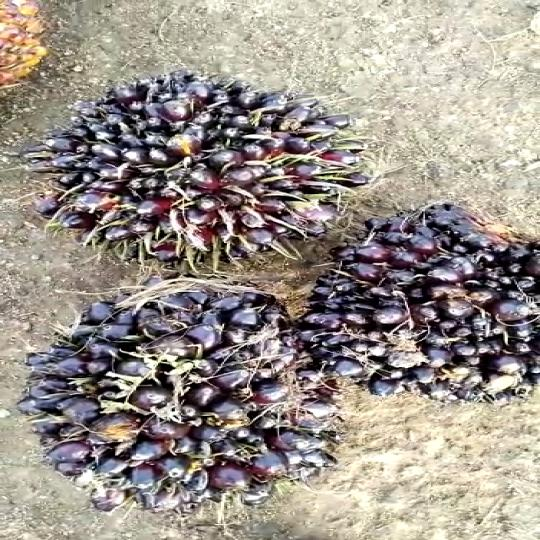mentah: (0, 266, 380, 514), (0, 58, 367, 256), (301, 206, 540, 429)
